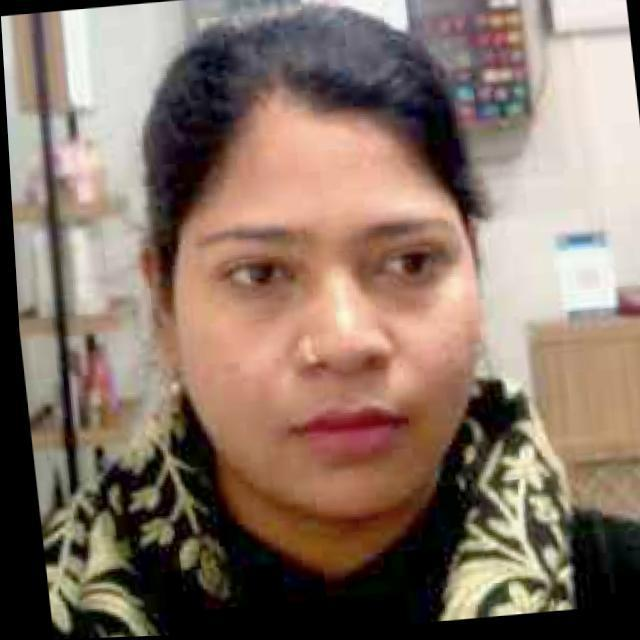puffy_eyes: (350, 261, 434, 317), (229, 278, 297, 315)
